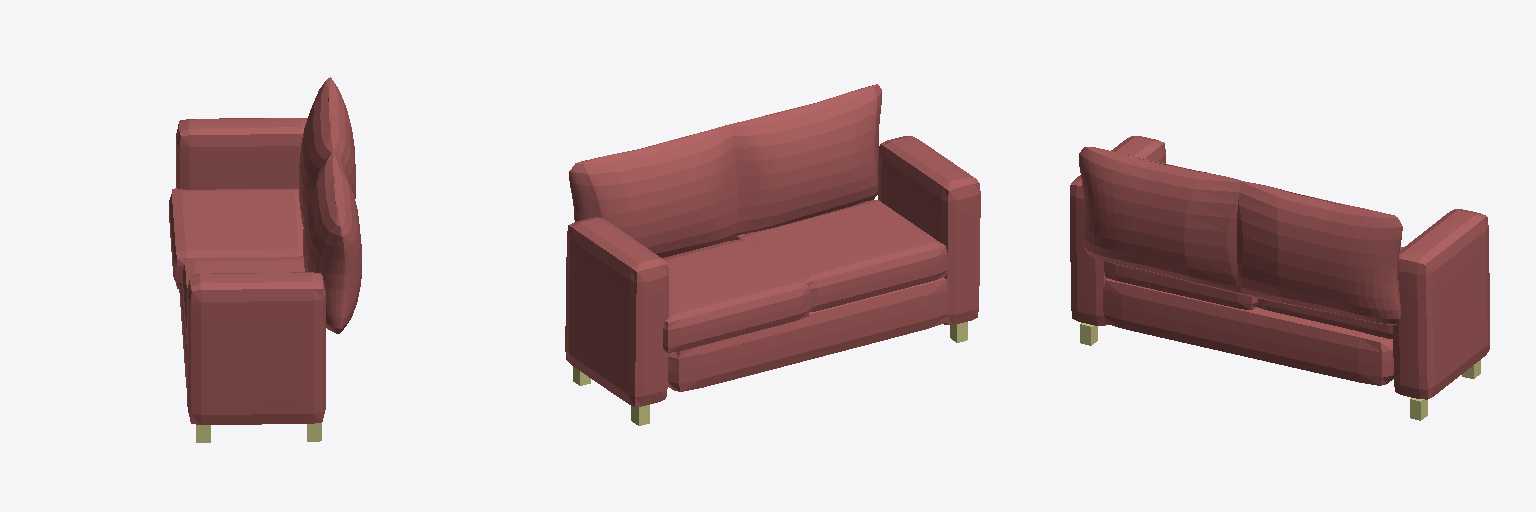
The model's file is sofa3.obj.
The picture shows the model from 3 angles: view 1: azimuth 30°, elevation 25°; view 2: azimuth 150°, elevation 25°; view 3: azimuth 270°, elevation 25°; orthographic projection.
Visible parts, largest first — view 1: Box04, Box01, Box05, Line02, Line03, Box02; view 2: Line02, Box05, Line03, Box02, Box03, Box01, Box04; view 3: Line03, Line02, Box05, Box03, Box04, Box02, Box01.
Boxes of the visible parts, x1=… form: Box04: x1=187, y1=272, x2=325, y2=424; Box01: x1=169, y1=188, x2=303, y2=288; Box05: x1=176, y1=118, x2=307, y2=189; Line02: x1=303, y1=150, x2=361, y2=333; Line03: x1=299, y1=77, x2=355, y2=226; Box02: x1=182, y1=256, x2=304, y2=344; Line02: x1=728, y1=84, x2=881, y2=239; Box05: x1=565, y1=217, x2=668, y2=406; Line03: x1=569, y1=125, x2=737, y2=257; Box02: x1=736, y1=200, x2=946, y2=311; Box03: x1=668, y1=277, x2=947, y2=391; Box01: x1=662, y1=239, x2=809, y2=352; Box04: x1=878, y1=136, x2=980, y2=324; Line03: x1=1237, y1=180, x2=1402, y2=324; Line02: x1=1079, y1=147, x2=1246, y2=294; Box05: x1=1393, y1=209, x2=1489, y2=399; Box03: x1=1103, y1=278, x2=1393, y2=385; Box04: x1=1070, y1=136, x2=1165, y2=325; Box02: x1=1104, y1=261, x2=1257, y2=309; Box01: x1=1256, y1=246, x2=1403, y2=338.
Size of the model in its own units: 567 by 405 by 743.